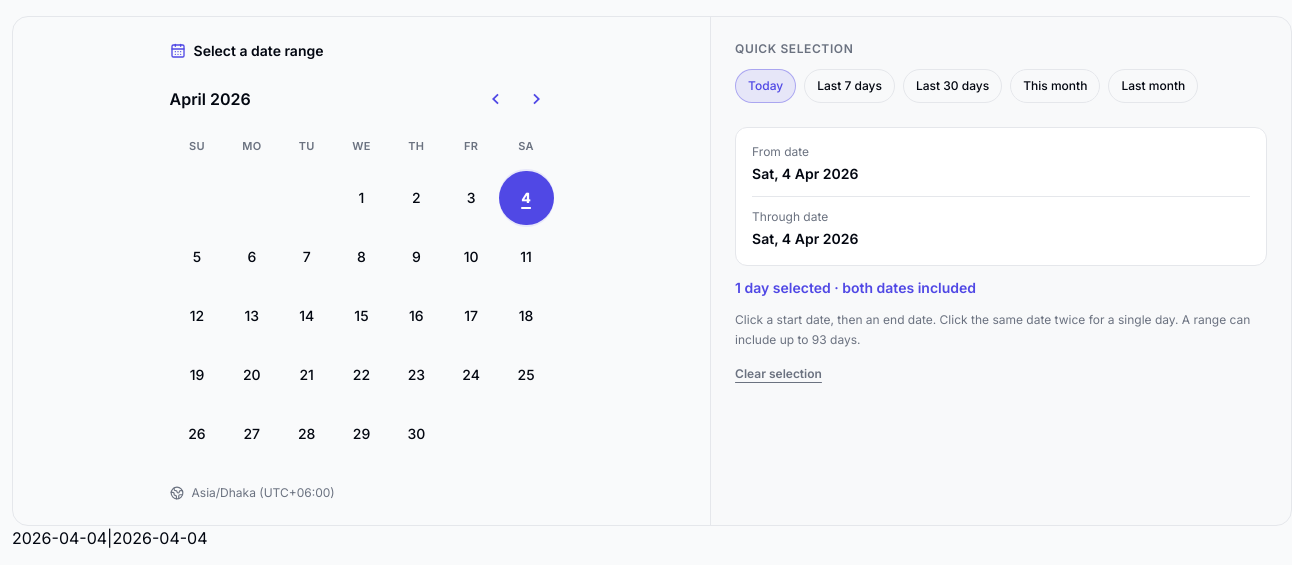
Test: PlacementDateRangePicker › limits reversed ranges to 93 inclusive days too
Click the button named "April 4th, 2026": click(526, 198) [499, 170, 554, 225]
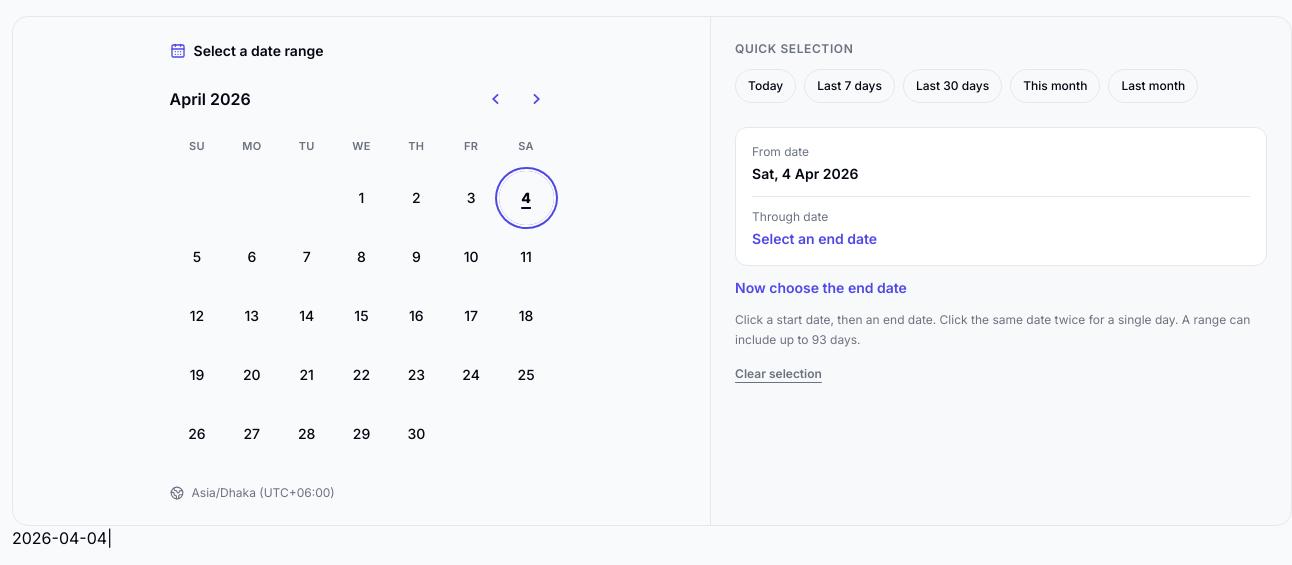
Click the button named "Go to the previous month": click(496, 99) [478, 81, 514, 117]
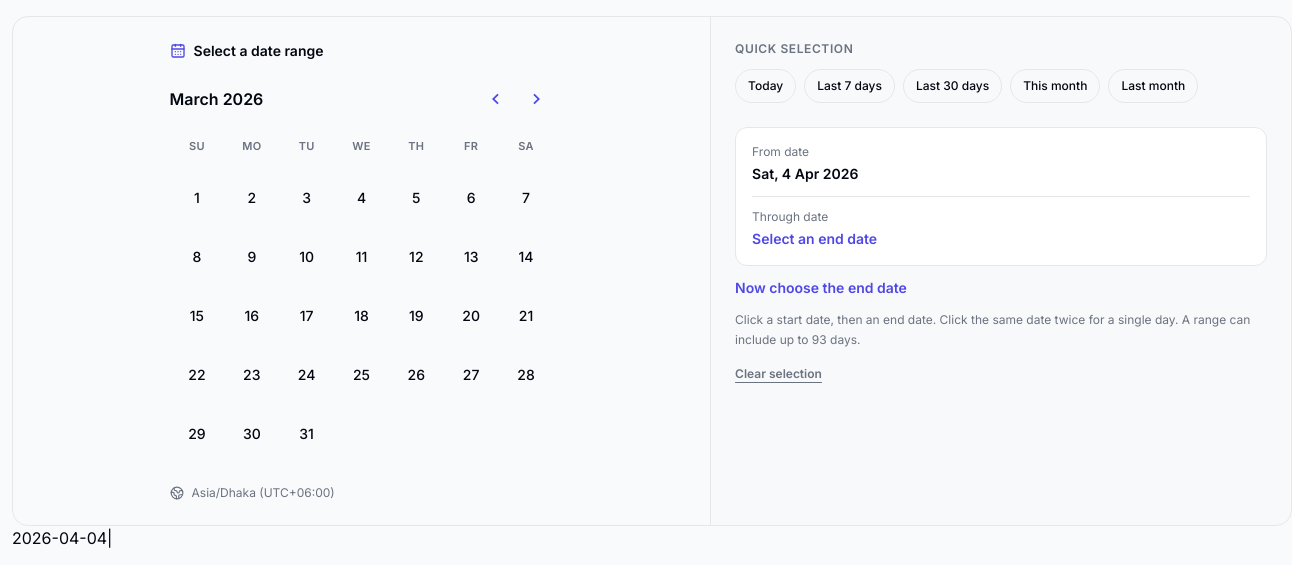
Click the button named "Go to the previous month": click(496, 99) [478, 81, 514, 117]
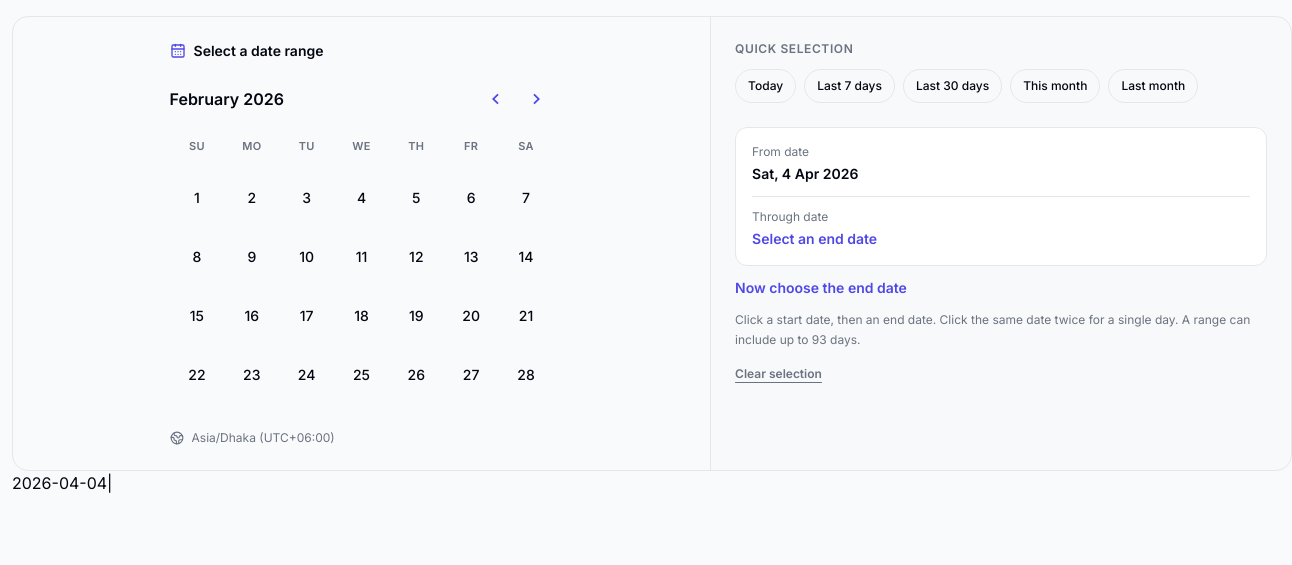
Click the button named "Go to the previous month": click(496, 99) [478, 81, 514, 117]
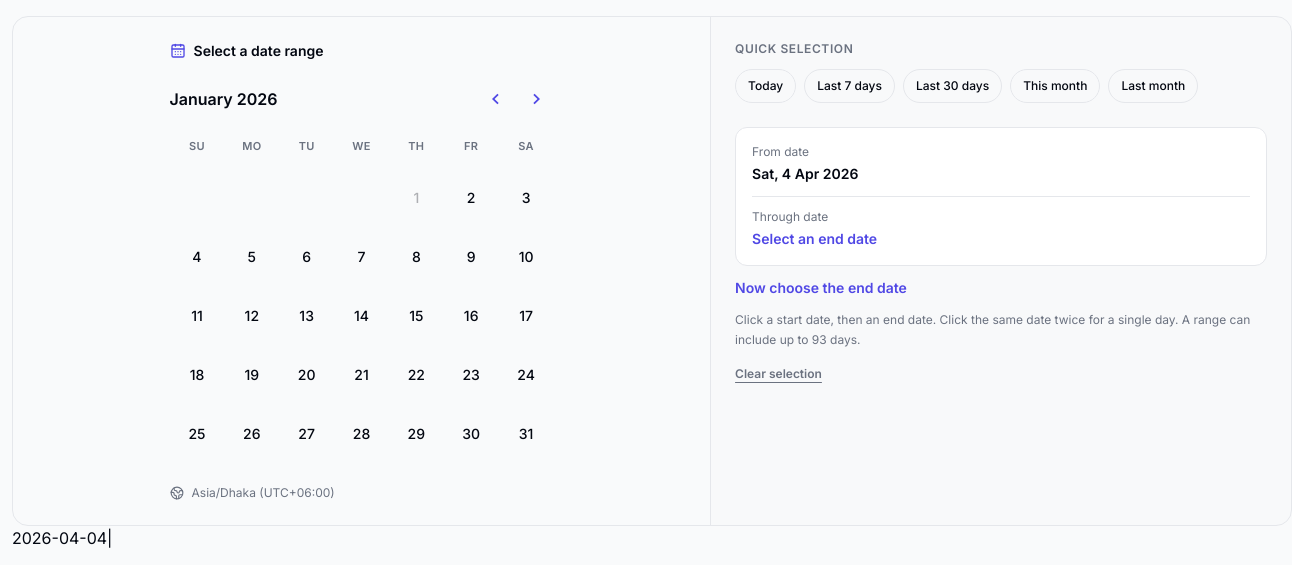
Check: the button named "January 1st, 2026" is disabled, box [389, 170, 444, 225]
Click the button named "January 2nd, 2026": click(471, 198) [444, 170, 499, 225]
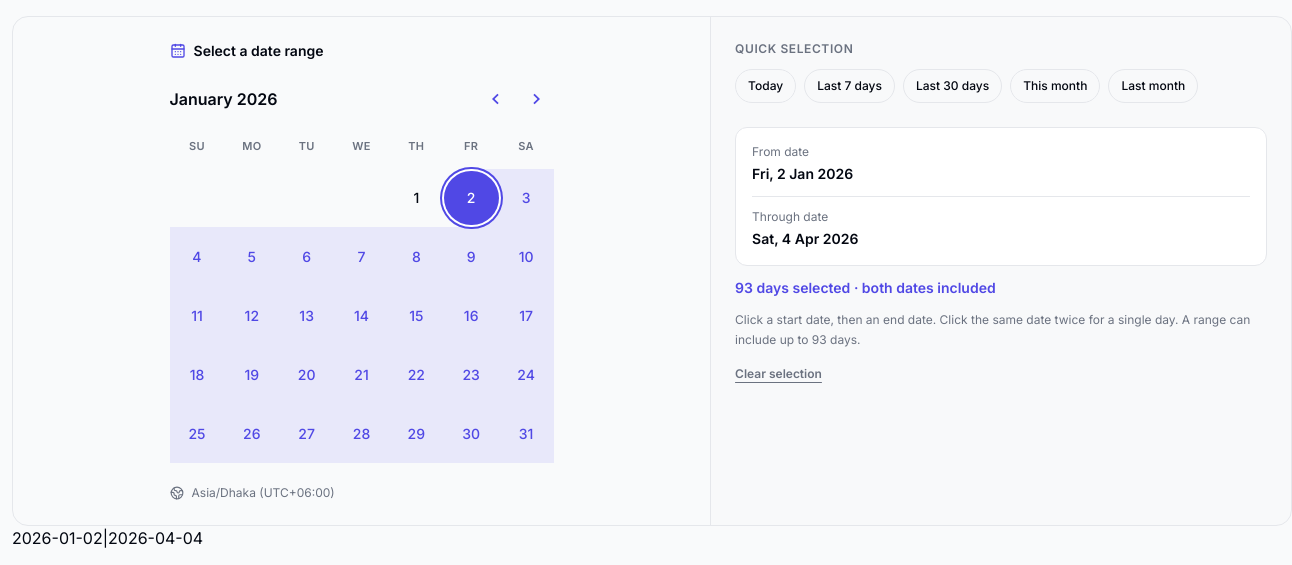
Check: the text "93 days selected · both dates included" is shown, box [735, 279, 996, 296]
